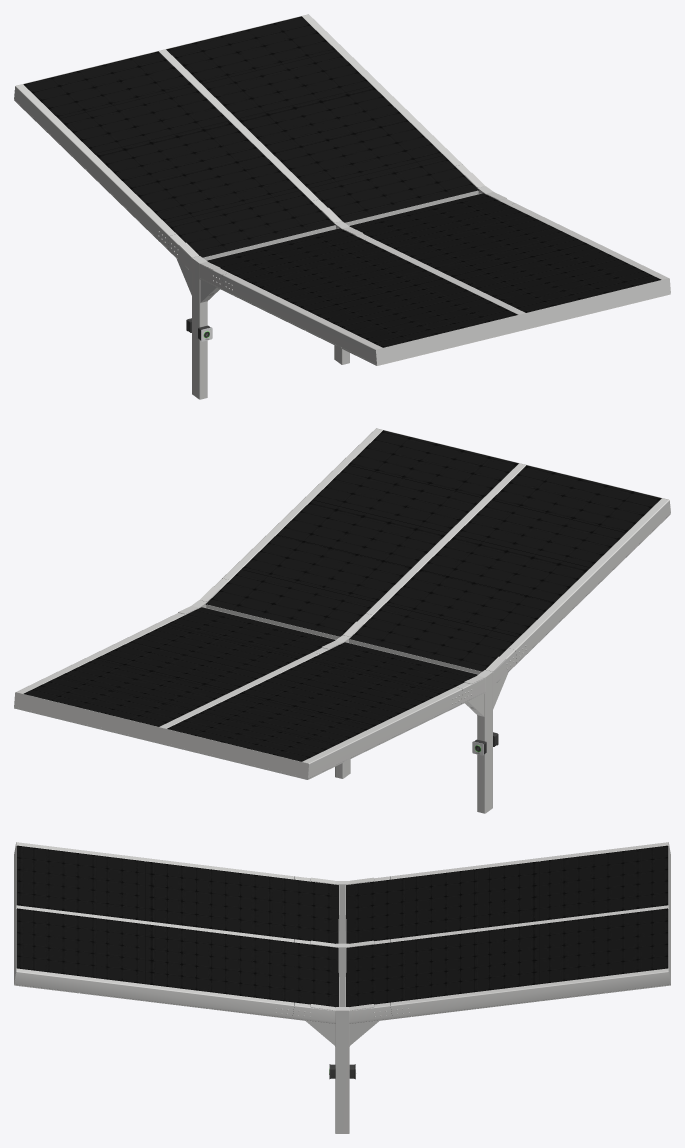
Rendered from Pac_4.glb.
3 renders of one model, top to bottom at view 1: azimuth 30°, elevation 25°; view 2: azimuth 150°, elevation 25°; view 3: azimuth 270°, elevation 25°, orthographic. The views are drawn at different scales.
Parts seen in each view (by area): view 1: Left.066, Left.060, Left.055, Left.061, Left.069, Left.056, Left.084; view 2: Left.066, Left.060, Left.055, Left.061, Left.069, Left.056, Left.084; view 3: Left.066, Left.061, Left.060, Left.058, Left.069, Left.084, Left.055, Plane.006, Left.062.
Boxes of the visible parts, bbox=[...] form: Left.066: bbox=[23, 16, 661, 347]; Left.060: bbox=[14, 49, 525, 364]; Left.055: bbox=[14, 14, 670, 365]; Left.061: bbox=[302, 14, 668, 279]; Left.069: bbox=[192, 221, 349, 399]; Left.056: bbox=[203, 190, 481, 260]; Left.084: bbox=[14, 100, 670, 365]; Left.066: bbox=[23, 430, 661, 761]; Left.060: bbox=[159, 463, 670, 778]; Left.055: bbox=[14, 428, 670, 778]; Left.061: bbox=[16, 428, 382, 693]; Left.069: bbox=[335, 635, 492, 813]; Left.056: bbox=[203, 604, 481, 674]; Left.084: bbox=[14, 514, 670, 779]; Left.066: bbox=[16, 845, 668, 1007]; Left.061: bbox=[14, 968, 670, 1023]; Left.060: bbox=[16, 842, 668, 944]; Left.058: bbox=[335, 1007, 349, 1133]; Left.069: bbox=[335, 881, 349, 1006]; Left.084: bbox=[14, 984, 670, 1020]; Left.055: bbox=[14, 842, 670, 984]; Plane.006: bbox=[306, 1021, 378, 1045]; Left.062: bbox=[310, 877, 374, 947].
Size of the model in its own units: 5.47 by 3.15 by 11.57.
Materials: 6 (5 with a texture image).
